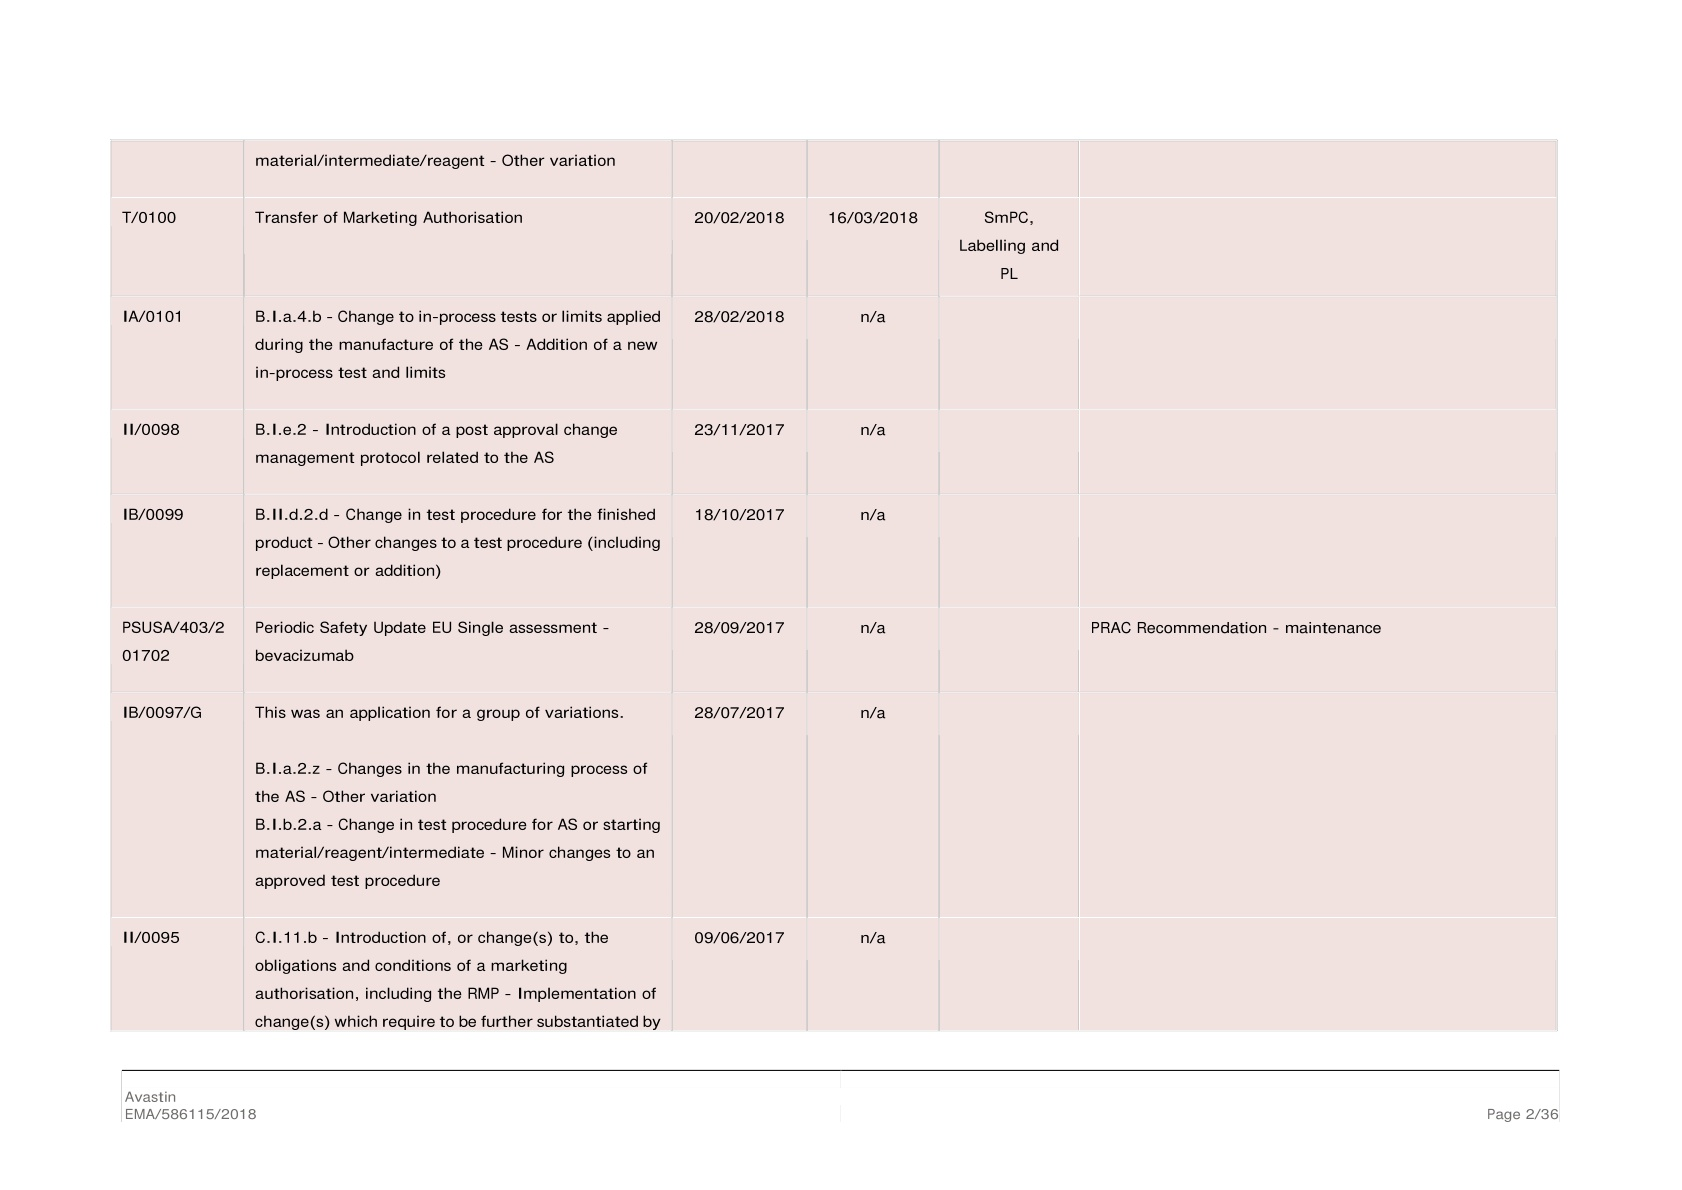merged_cells: (108, 137, 1560, 1034)
